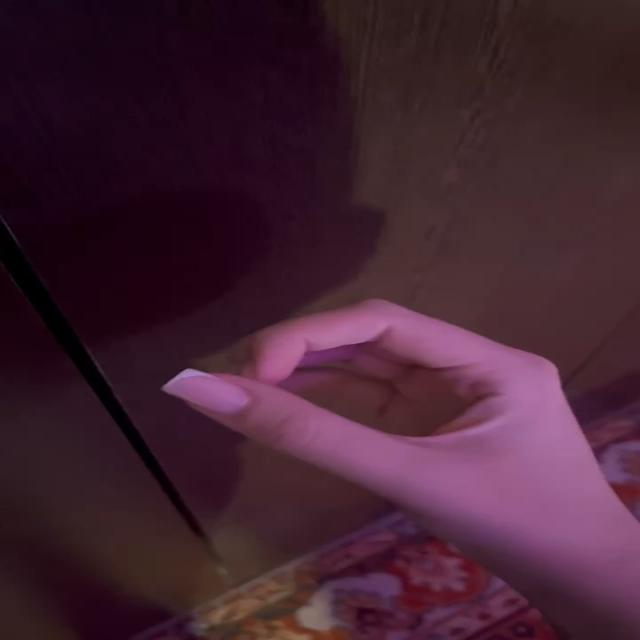e: (178, 293, 607, 517)
